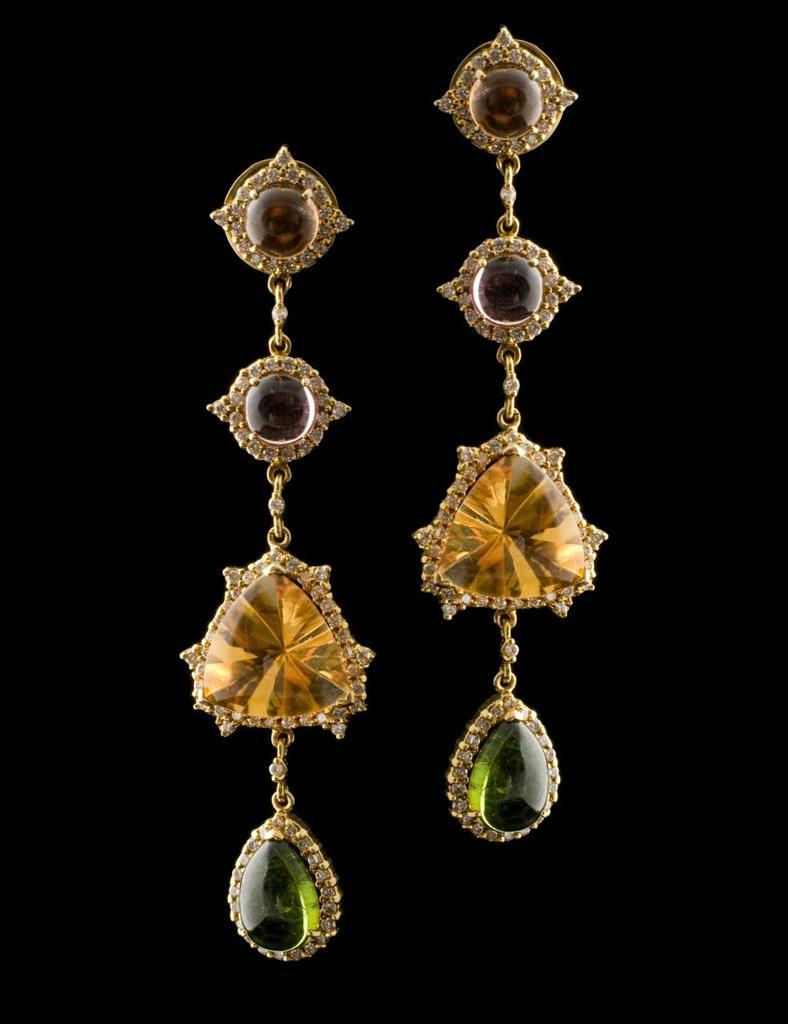earrings: (165, 130, 388, 966), (404, 17, 614, 844)
